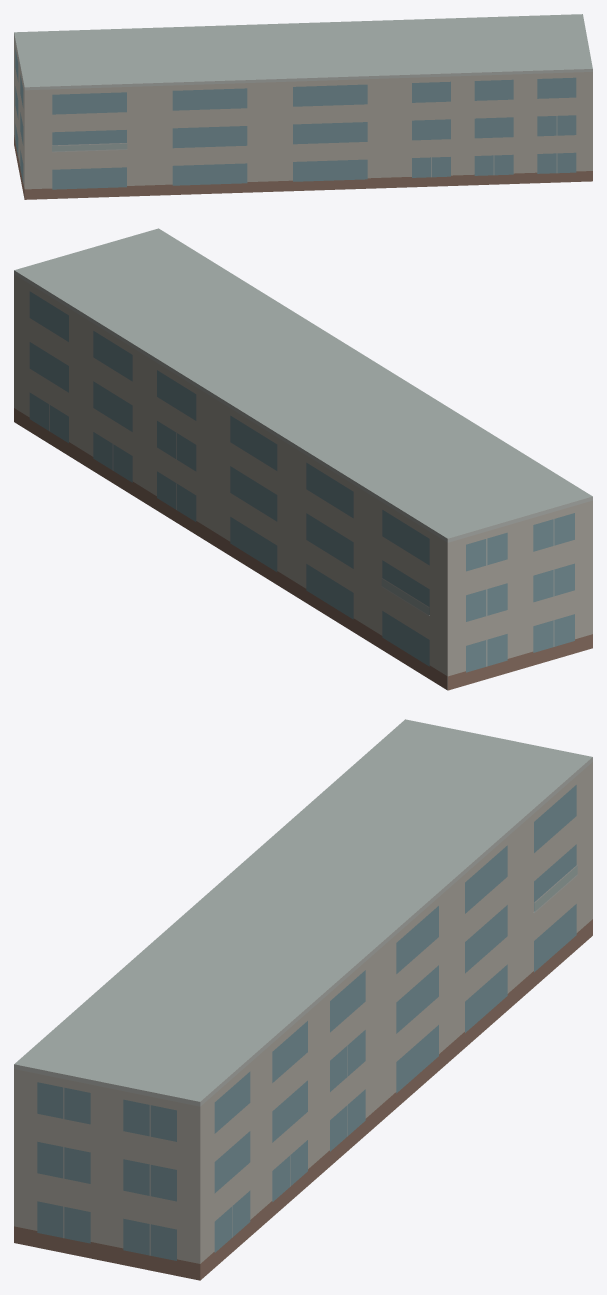
File: survey-upis-32552454.glb
3 renders of one model, top to bottom at view 1: azimuth 30°, elevation 25°; view 2: azimuth 150°, elevation 25°; view 3: azimuth 270°, elevation 25°, orthographic. The views are drawn at different scales.
Visible parts, largest first — view 1: survey-upis-32552454.tmp; view 2: survey-upis-32552454.tmp; view 3: survey-upis-32552454.tmp.
Part boxes in pixels (bbox=[...]): survey-upis-32552454.tmp: bbox=[14, 14, 592, 199]; survey-upis-32552454.tmp: bbox=[14, 228, 592, 690]; survey-upis-32552454.tmp: bbox=[14, 719, 592, 1280].
Size of the model in its own units: 42.02 by 9.15 by 26.87.
